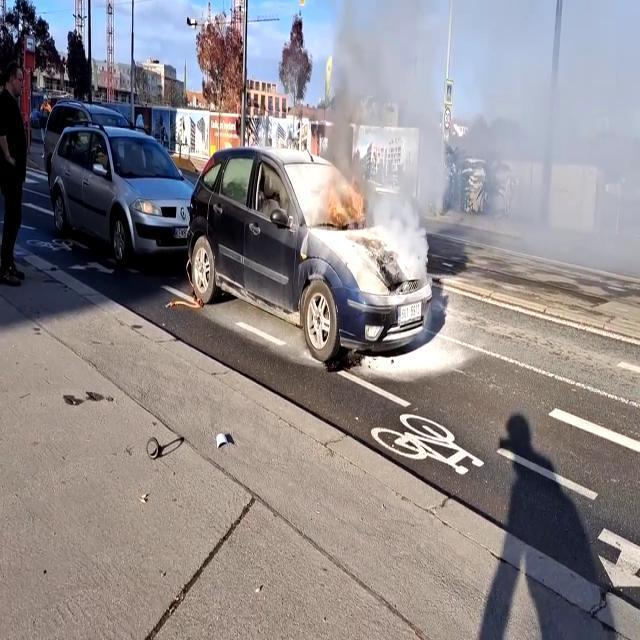Fire: (323, 176, 370, 232)
Smoke: (301, 1, 640, 308)
